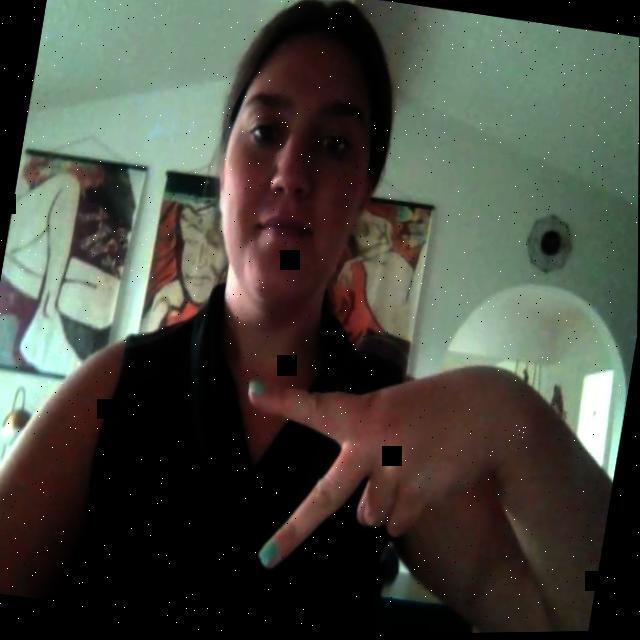Scissors: (211, 323, 498, 609)
